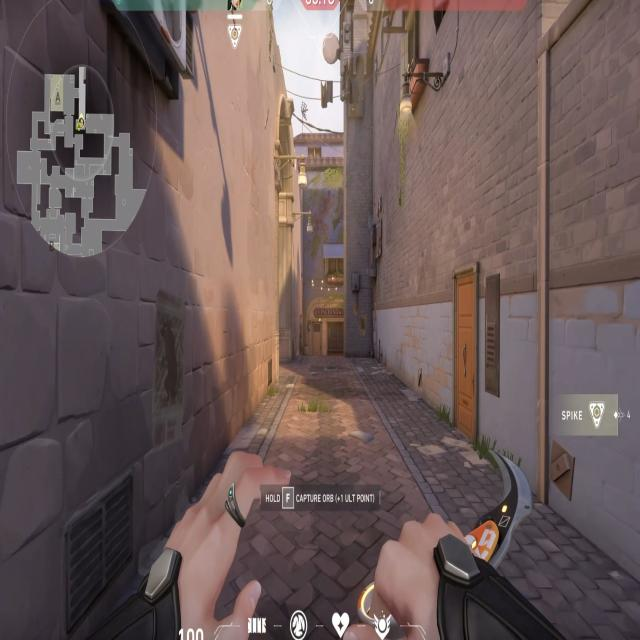Wine: (301, 290, 353, 365)
